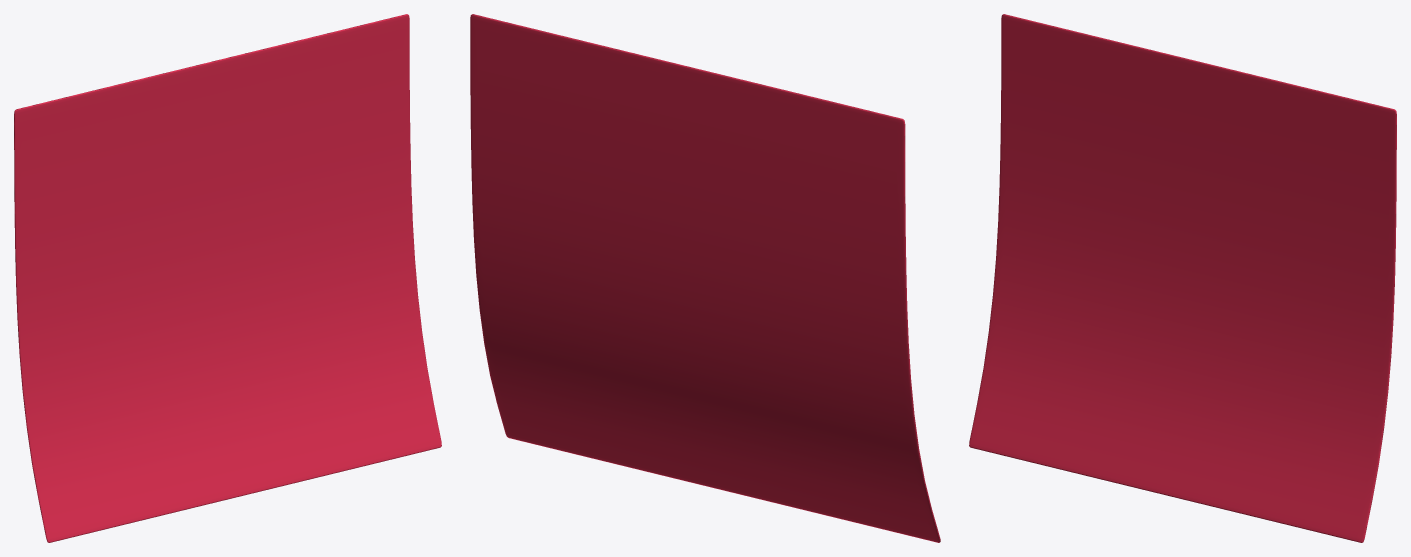
3 renders of one model, left to right at view 1: azimuth 30°, elevation 25°; view 2: azimuth 150°, elevation 25°; view 3: azimuth 330°, elevation 25°, orthographic. The views are drawn at different scales.
Visible parts, largest first — view 1: Object056; view 2: Object056; view 3: Object056.
Part boxes in pixels (bbox=[...]): Object056: bbox=[14, 14, 441, 542]; Object056: bbox=[470, 14, 940, 542]; Object056: bbox=[969, 14, 1396, 542].
Size of the model in its own units: 0.0325 by 0.0322 by 0.00481.
